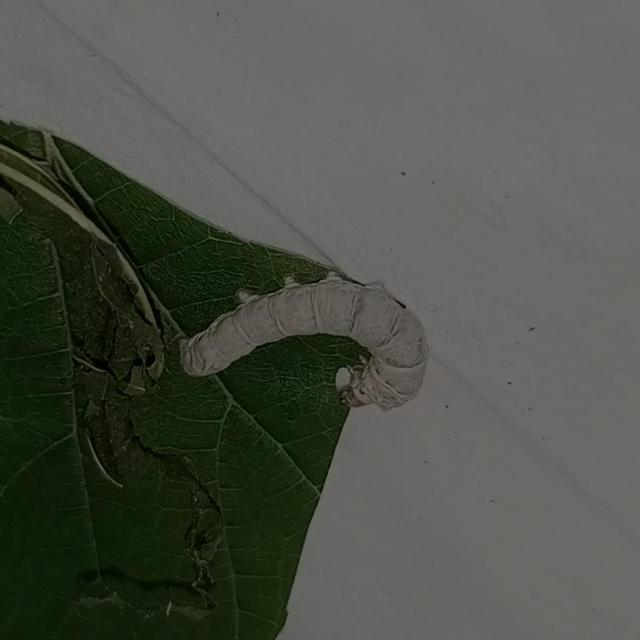Healthy: (172, 263, 433, 421)
